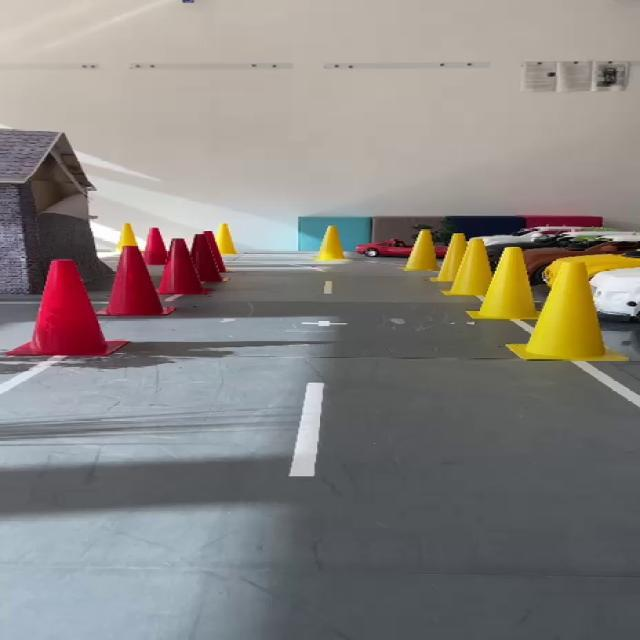Cone-red: (6, 262, 127, 356), (99, 239, 172, 315), (160, 238, 207, 295), (190, 234, 221, 283), (145, 228, 166, 266)
Cones-yellow: (508, 260, 628, 360), (468, 248, 538, 319), (443, 238, 491, 298), (434, 233, 463, 282), (404, 229, 436, 269), (319, 225, 343, 259), (215, 223, 237, 255), (119, 223, 137, 250)
